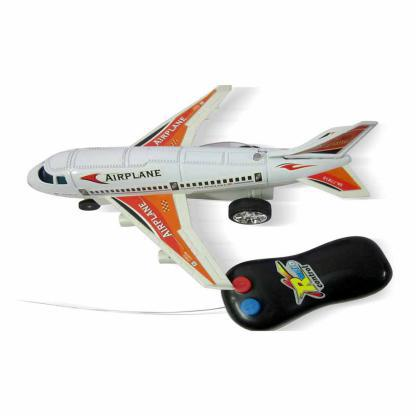CIV_Plane: (16, 78, 382, 295)
